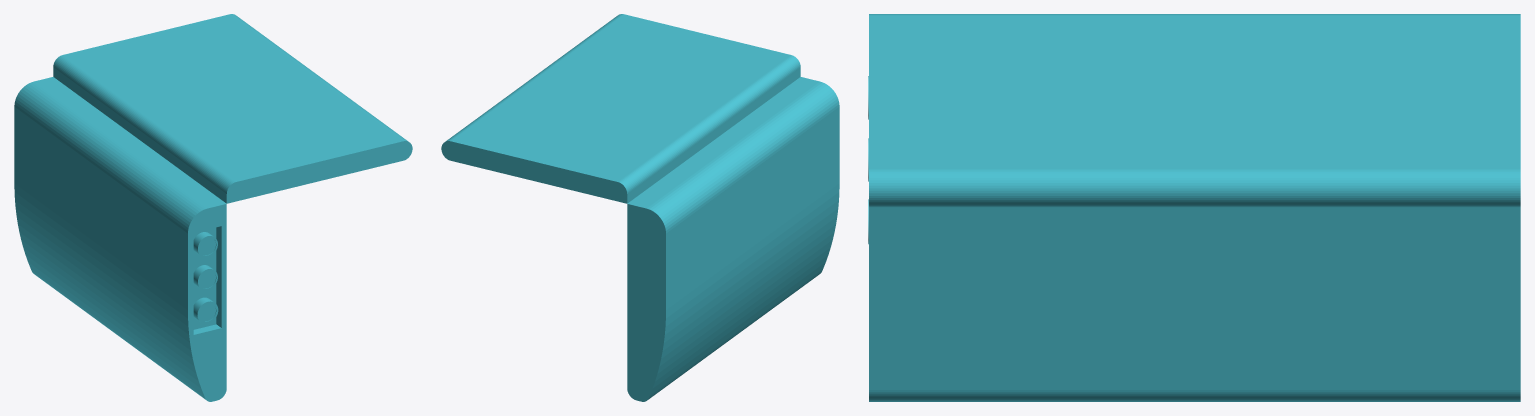
The picture shows the model from 3 angles, left to right: view 1: azimuth 30°, elevation 25°; view 2: azimuth 150°, elevation 25°; view 3: azimuth 270°, elevation 25°; orthographic projection. The views are drawn at different scales.
Visible parts, largest first — view 1: Renderer Node; view 2: Renderer Node; view 3: Renderer Node.
Part boxes in pixels (box(x1,y1,x2,y2)): Renderer Node: box(14, 14, 412, 401); Renderer Node: box(441, 14, 839, 401); Renderer Node: box(868, 14, 1520, 401).
Bounding box in the file's own units: 0.5255 × 0.4781 × 0.7038.
1 material, 1 textured.
